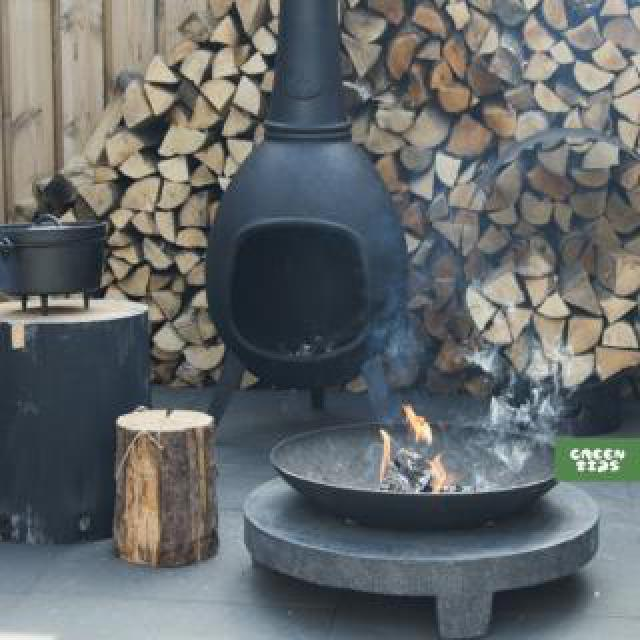smoke: (490, 334, 570, 472), (356, 294, 422, 392)
zfire: (376, 408, 460, 500)
